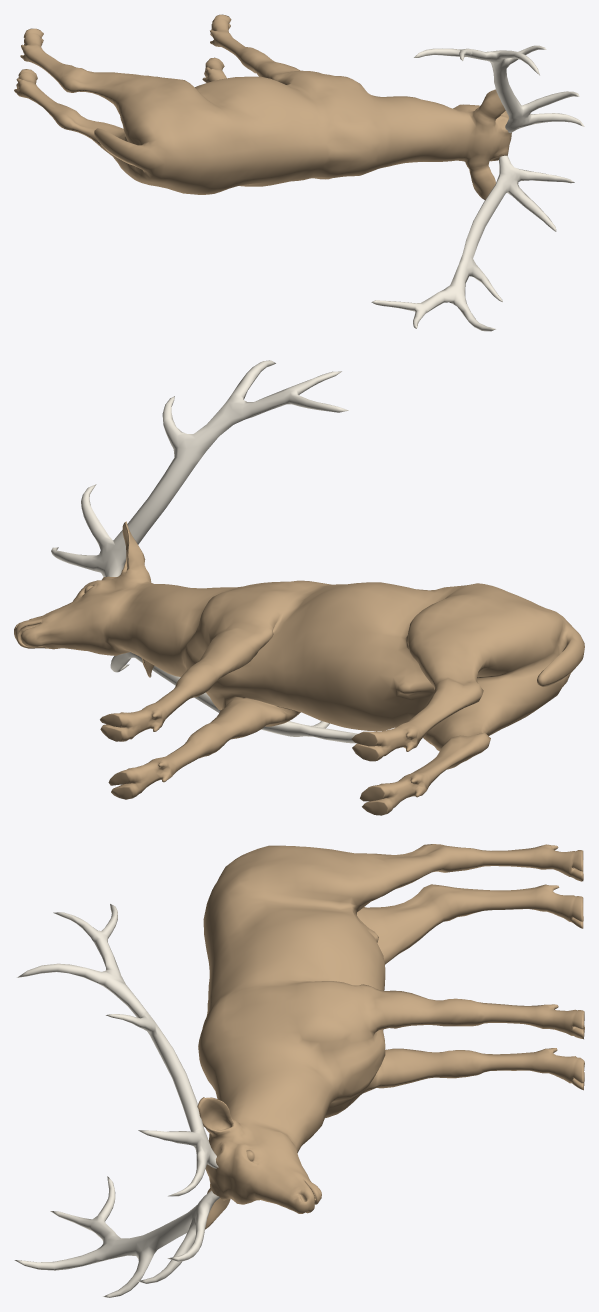
Rendered from pack_deer_game.glb.
3 views of the same model, one above another, from view 1: azimuth 30°, elevation 25°; view 2: azimuth 150°, elevation 25°; view 3: azimuth 270°, elevation 25° (orthographic). The views are drawn at different scales.
Parts seen in each view (by area): view 1: Deer_M.001_M_Deer.001_0, Deer_M.001_M_DeerAntler.001_0; view 2: Deer_M.001_M_Deer.001_0, Deer_M.001_M_DeerAntler.001_0; view 3: Deer_M.001_M_Deer.001_0, Deer_M.001_M_DeerAntler.001_0.
Boxes of the visible parts, bbox=[...] form: Deer_M.001_M_Deer.001_0: bbox=[14, 14, 511, 199]; Deer_M.001_M_DeerAntler.001_0: bbox=[371, 45, 584, 331]; Deer_M.001_M_Deer.001_0: bbox=[14, 521, 584, 815]; Deer_M.001_M_DeerAntler.001_0: bbox=[51, 360, 357, 743]; Deer_M.001_M_Deer.001_0: bbox=[197, 844, 584, 1229]; Deer_M.001_M_DeerAntler.001_0: bbox=[14, 904, 219, 1297].
Bounding box in the file's own units: 245 × 149 × 220.
